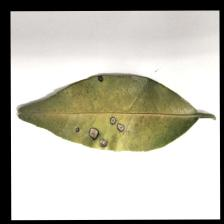canker: (63, 70, 128, 150)
